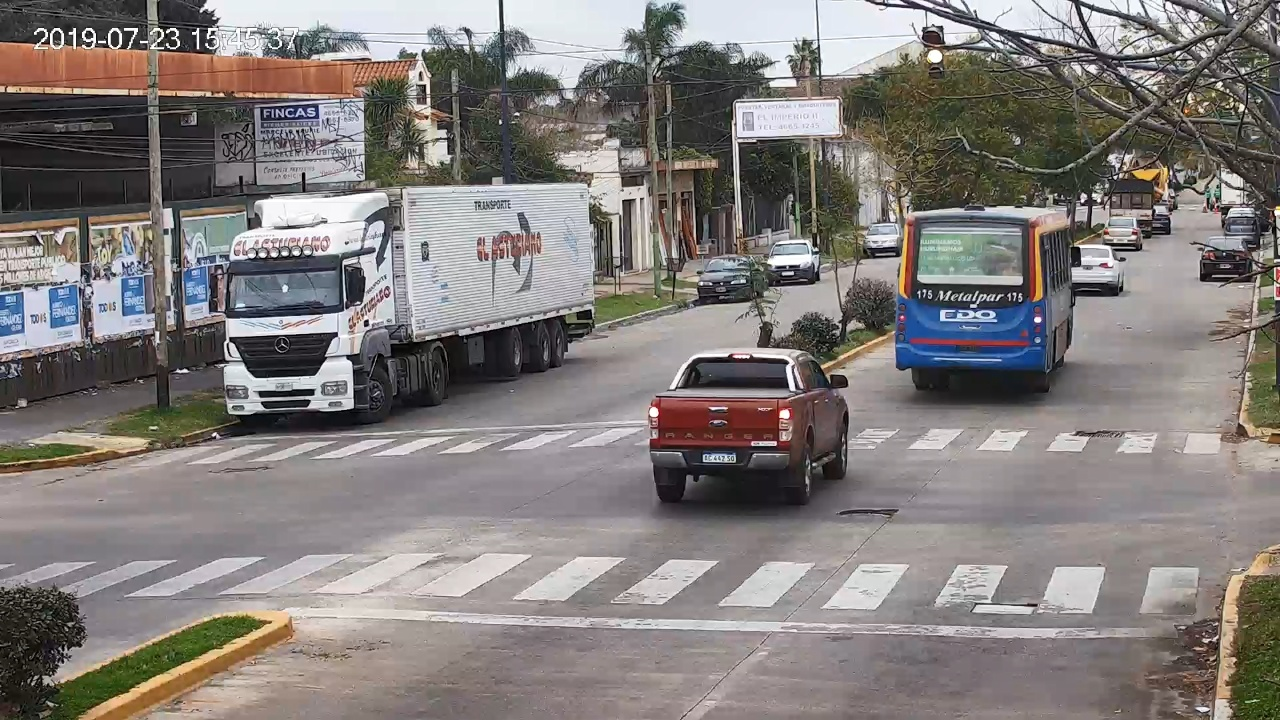bus: (896, 207, 1080, 393)
car: (649, 347, 850, 505)
front truck: (209, 185, 595, 424)
traffic light: (924, 25, 945, 79)
